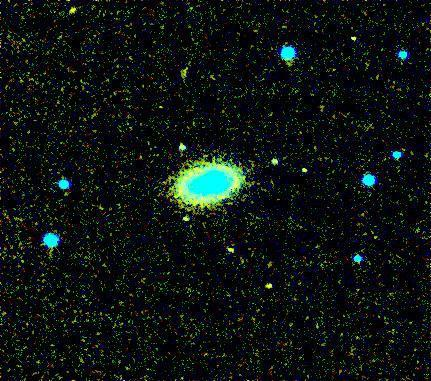star: (57, 0, 87, 25)
